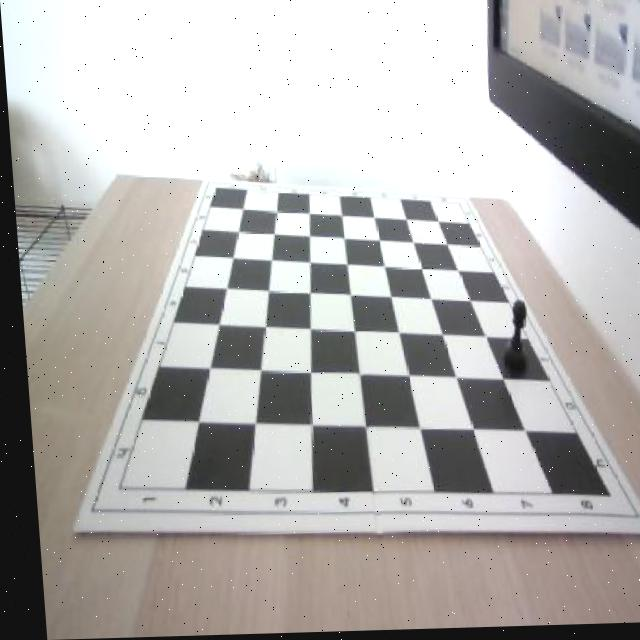black-knight: (494, 302, 525, 377)
